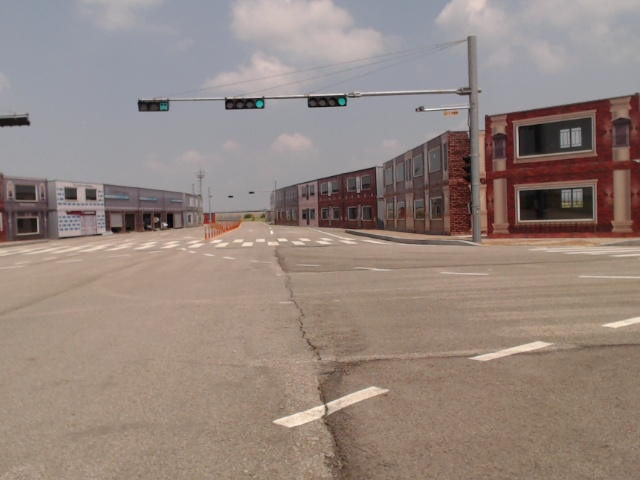straight_green_4: (225, 98, 265, 110), (308, 97, 349, 106)
